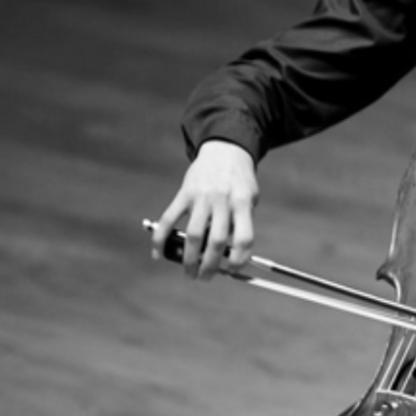good: (150, 166, 268, 294)
